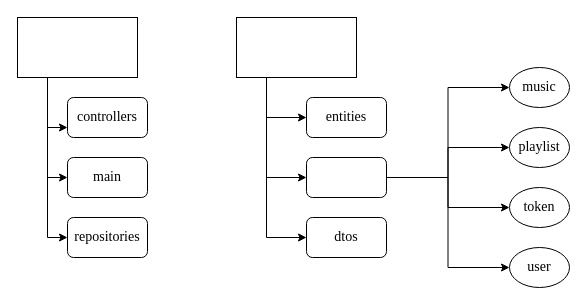
This 587x305 diagram has some shape labels left out. The centre of each missing label's shape, as x and y in pixels:
"application" goes at point 77,47.
"domain" goes at point 296,47.
"services" goes at point 346,177.
